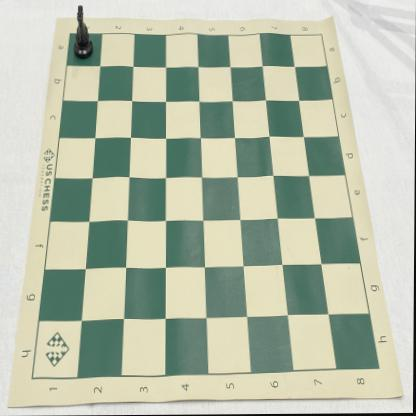black-knight: (73, 4, 93, 61)
